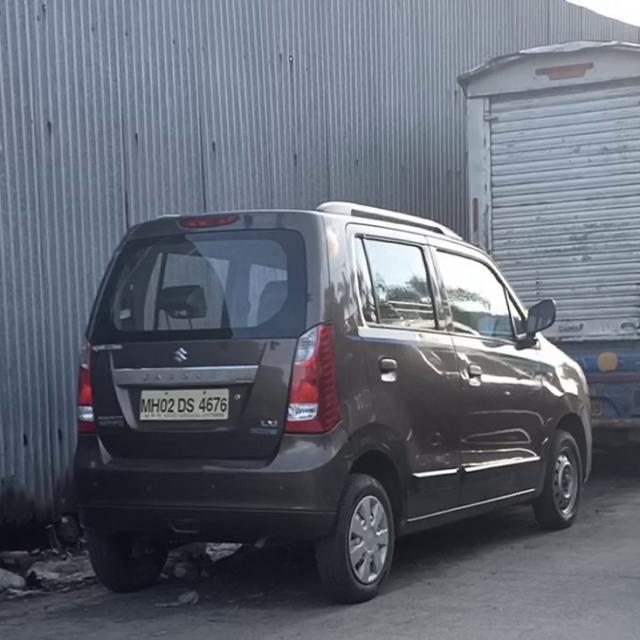Plate: (138, 389, 230, 423)
